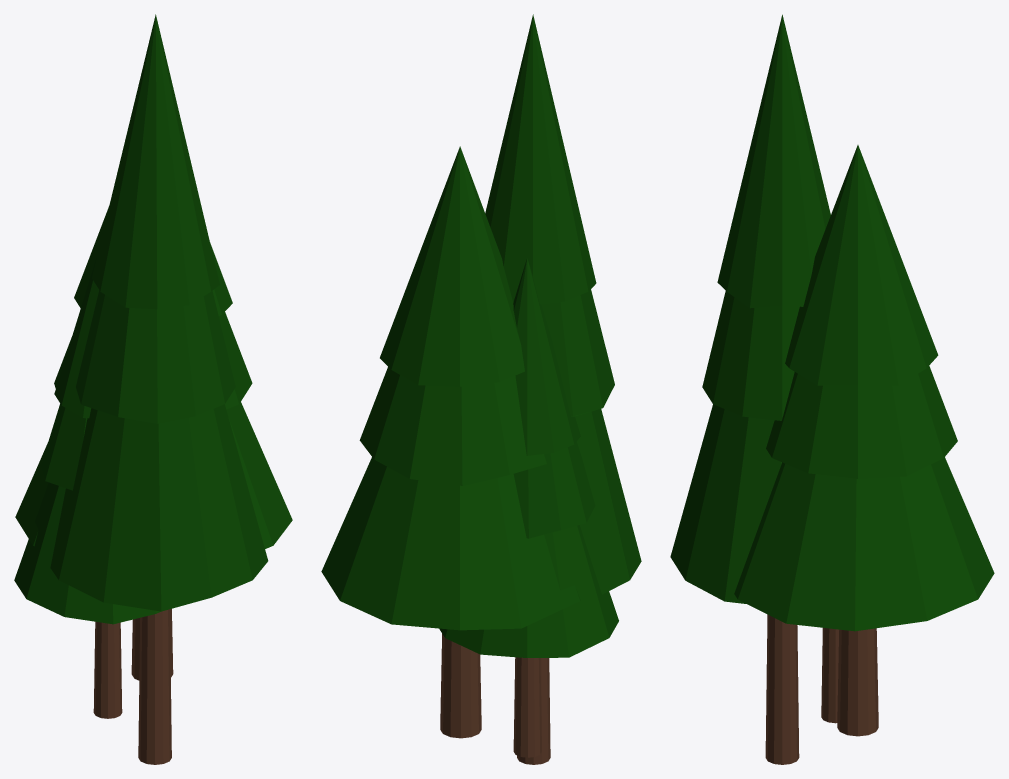
File: trees.glb
3 views of the same model, side by side, from view 1: azimuth 30°, elevation 25°; view 2: azimuth 150°, elevation 25°; view 3: azimuth 270°, elevation 25° (orthographic).
Parts seen in each view (by area): view 1: pine_tree1.001, pine_tree1.002, pine_tree1; view 2: pine_tree1, pine_tree1.001, pine_tree1.002; view 3: pine_tree1, pine_tree1.001, pine_tree1.002.
Boxes of the visible parts, x1=… form: pine_tree1.001: x1=50, y1=14, x2=268, y2=764; pine_tree1.002: x1=14, y1=257, x2=160, y2=718; pine_tree1: x1=15, y1=207, x2=292, y2=680; pine_tree1: x1=321, y1=146, x2=580, y2=738; pine_tree1.001: x1=485, y1=14, x2=641, y2=764; pine_tree1.002: x1=439, y1=258, x2=618, y2=757; pine_tree1: x1=734, y1=145, x2=994, y2=736; pine_tree1.001: x1=670, y1=14, x2=830, y2=764; pine_tree1.002: x1=821, y1=628, x2=838, y2=723.
Size of the model in its own units: 2.13 by 5.91 by 2.34.
2 materials, 2 textured.
